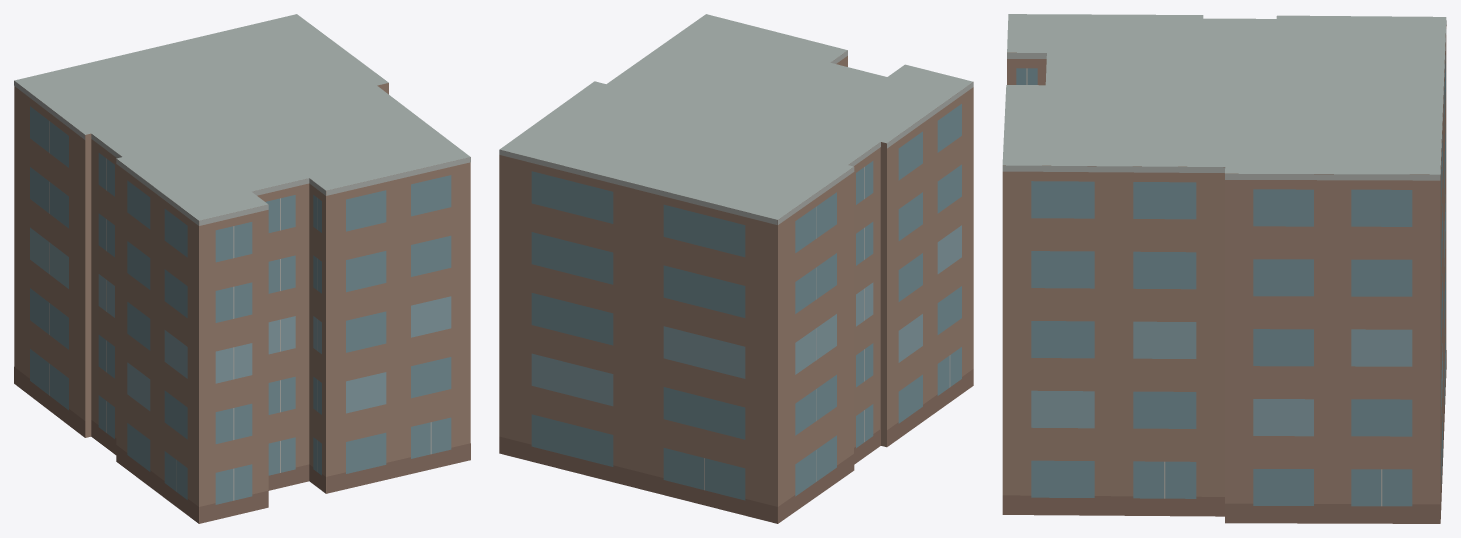
File: survey-upis-32840676.glb
The picture shows the model from 3 angles, left to right: view 1: azimuth 30°, elevation 25°; view 2: azimuth 150°, elevation 25°; view 3: azimuth 270°, elevation 25°; orthographic projection. The views are drawn at different scales.
Parts seen in each view (by area): view 1: survey-upis-32840676.tmp; view 2: survey-upis-32840676.tmp; view 3: survey-upis-32840676.tmp.
Part boxes in pixels (x1,y1,x2,y2): survey-upis-32840676.tmp: (14, 14, 470, 523); survey-upis-32840676.tmp: (499, 14, 973, 523); survey-upis-32840676.tmp: (1002, 14, 1446, 523).
Size of the model in its own units: 13.8 by 14 by 16.13.
